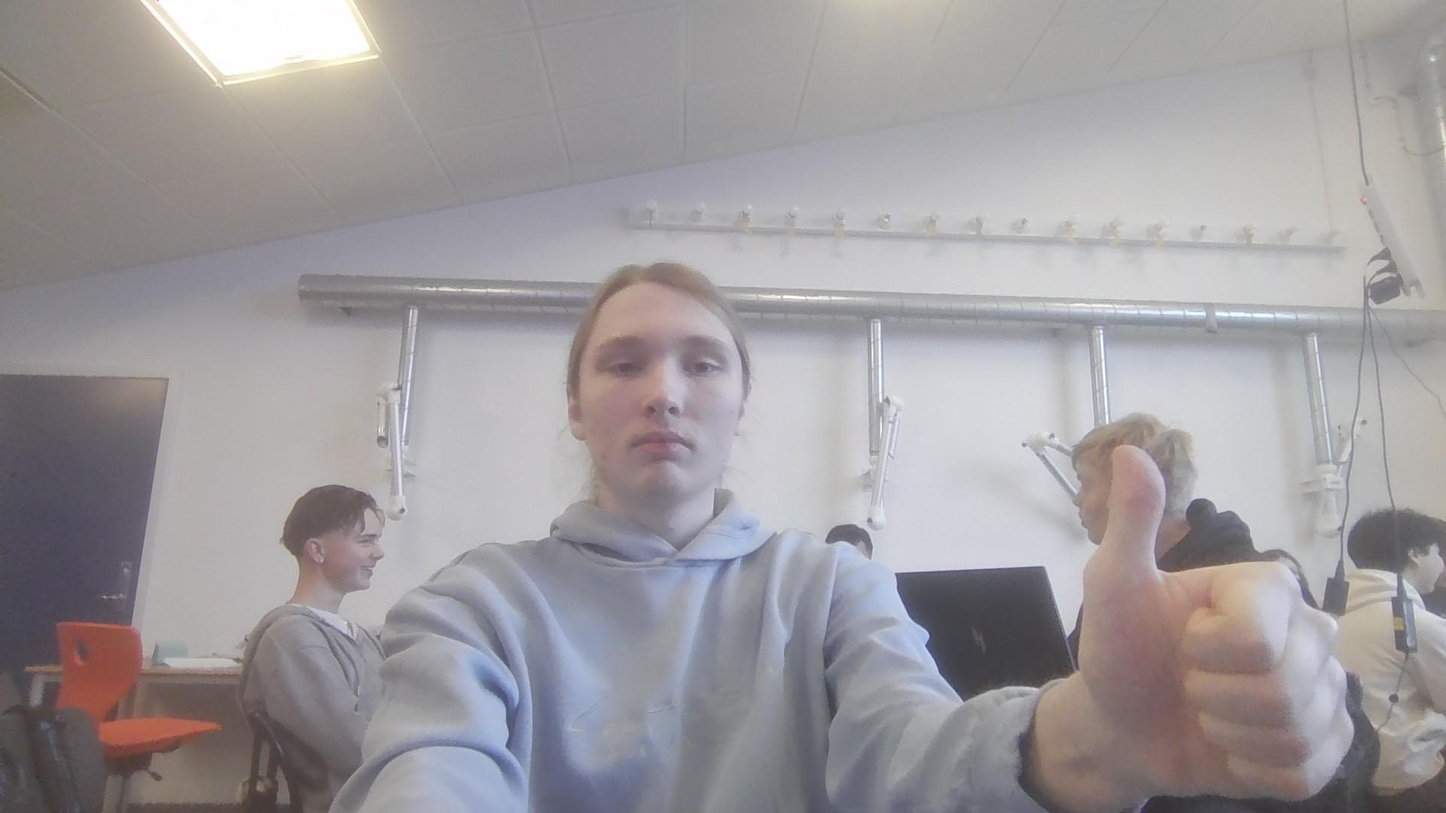thumbs up: (1054, 437, 1377, 804)
